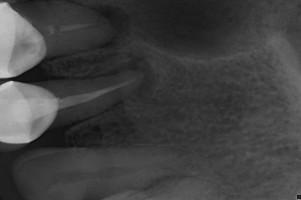Furcation Involvement: (95, 53, 156, 96), (90, 3, 131, 48)
